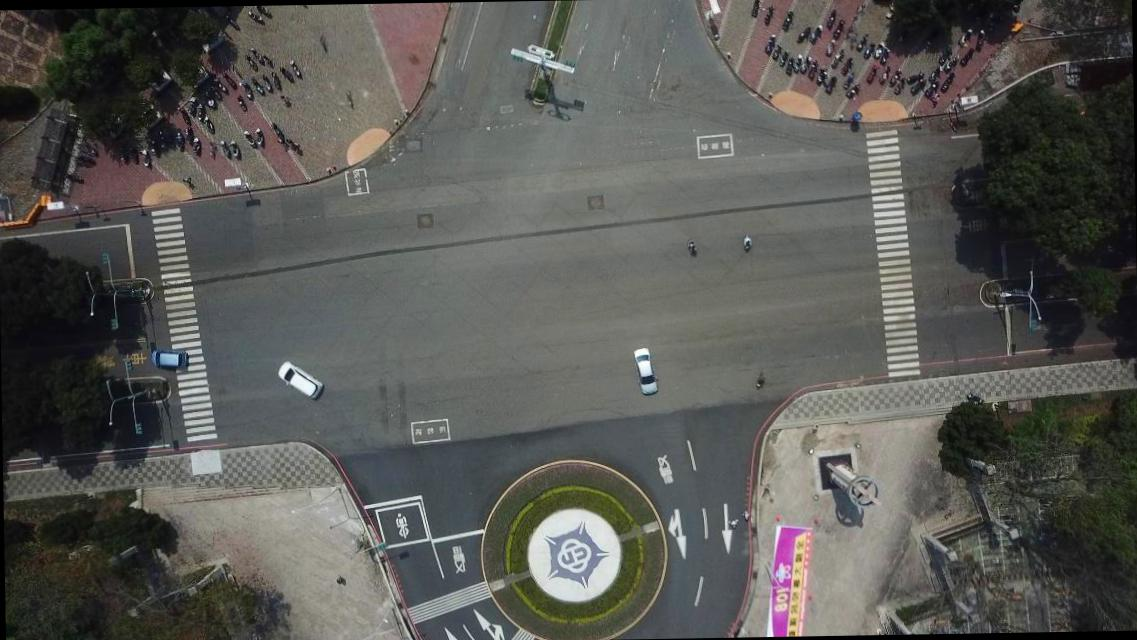vehicle: (276, 361, 324, 398), (632, 348, 658, 394), (150, 348, 186, 369)
